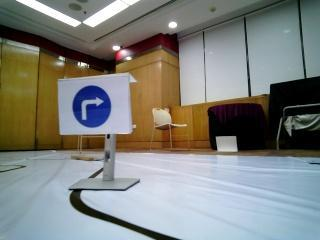right: (59, 83, 123, 131)
